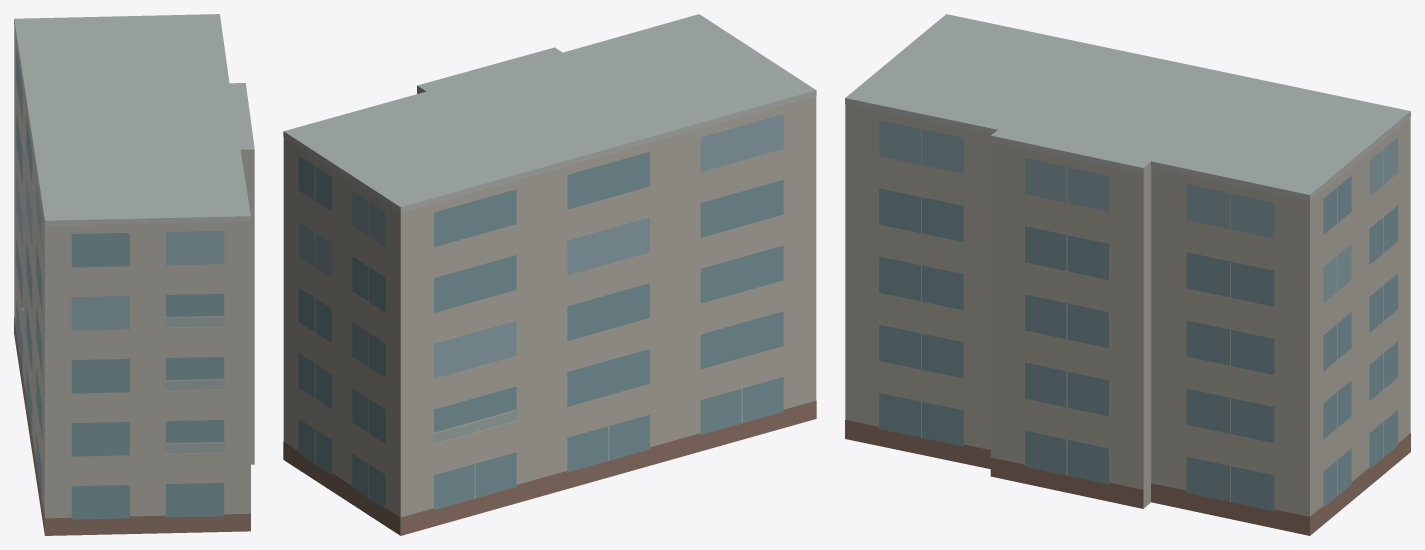
Rendered from survey-upis-32581414.glb.
3 renders of one model, left to right at view 1: azimuth 30°, elevation 25°; view 2: azimuth 150°, elevation 25°; view 3: azimuth 270°, elevation 25°, orthographic. The views are drawn at different scales.
Visible parts, largest first — view 1: survey-upis-32581414.tmp; view 2: survey-upis-32581414.tmp; view 3: survey-upis-32581414.tmp.
Part boxes in pixels (left/top/right/bottom): survey-upis-32581414.tmp: left=14, top=14, right=254, bottom=535; survey-upis-32581414.tmp: left=283, top=14, right=816, bottom=535; survey-upis-32581414.tmp: left=845, top=14, right=1410, bottom=535.
Size of the model in its own units: 15.84 by 13.9 by 20.92.
